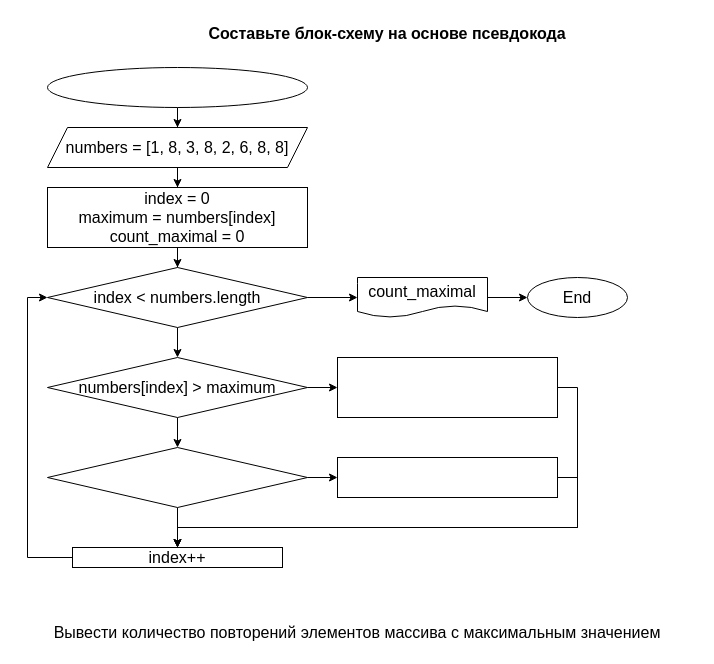
Image size: 714x664. Some labels were removed from this diagram. The shapes that lost their labels are listed below. From the top down, each one's centre as x and y in pixels, then its label:
At point 177,87: "Start".
At point 447,387: "maximum = numbers[index] count_maximal = 1".
At point 177,477: "numbers[index] == maximum".
At point 447,477: "count_maximal++".
